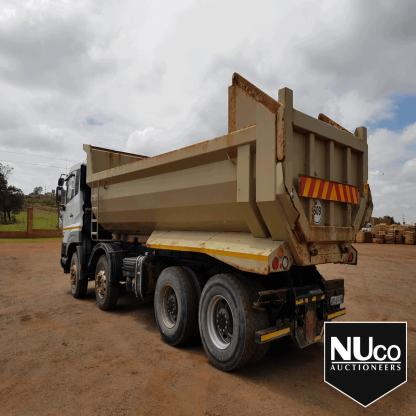dump_truck: (59, 71, 375, 373)
